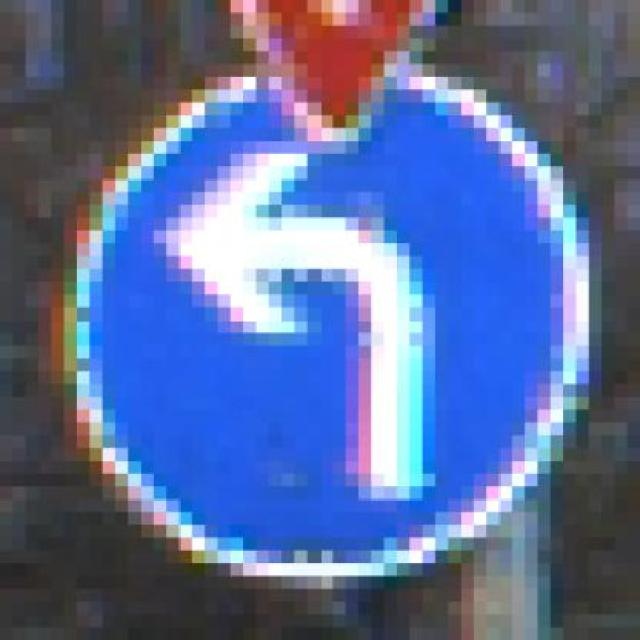Turn left ahead: (64, 25, 602, 602)
